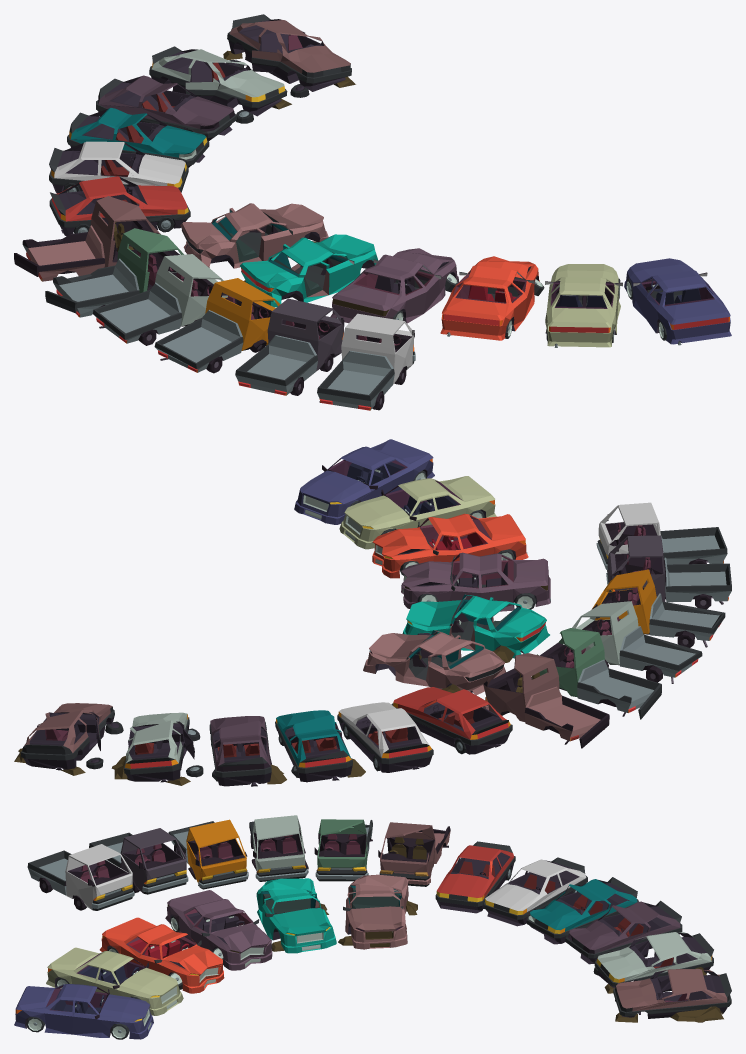
The model's file is abandoned.glb.
The picture shows the model from 3 angles, top to bottom: view 1: azimuth 30°, elevation 25°; view 2: azimuth 150°, elevation 25°; view 3: azimuth 270°, elevation 25°; orthographic projection. The views are drawn at different scales.
Parts seen in each view (by area): view 1: car 3.RC, car 3./, car 1, car 3, car 1,/2.RC, car 1,/2, car 3./.RC, car 1,/.RC, car 2./2.RC, car 1,/, car 1.RC, car 2./2 (+6 smaller); view 2: car 1,/2.RC, car 1, car 1,/2, car 1.RC, car 1,/.RC, car 3./2.RC, car 1,/, car 3./2, car 2, car 3.RC, car 2./2.RC, car 3./.RC (+6 smaller); view 3: car 1, car 2./2.RC, car 1,/2.RC, car 1,/2, car 1.RC, car 3, car 1,/, car 1,/.RC, car 2./2, car 2.RC, car 2./.RC, car 3./ (+6 smaller).
Part boxes in pixels (box(x1,y1,x2,y2)): car 3.RC: box(235, 298, 344, 395); car 3./: box(154, 278, 280, 373); car 1: box(624, 258, 731, 345); car 3: box(317, 313, 415, 410); car 1,/2.RC: box(330, 248, 458, 323); car 1,/2: box(440, 256, 544, 340); car 3./.RC: box(93, 254, 228, 345); car 1,/.RC: box(180, 203, 328, 268); car 2./2.RC: box(223, 14, 355, 97); car 1,/: box(240, 234, 378, 307); car 1.RC: box(545, 264, 622, 347); car 2./2: box(149, 46, 291, 123); car 1,/2.RC: box(401, 552, 550, 611); car 1: box(294, 439, 434, 524); car 1,/2: box(372, 513, 528, 578); car 1.RC: box(339, 476, 496, 549); car 1,/.RC: box(363, 630, 505, 695); car 3./2.RC: box(483, 653, 609, 748); car 1,/: box(402, 594, 549, 662); car 3./2: box(532, 628, 661, 719); car 2: box(391, 687, 512, 754); car 3.RC: box(606, 535, 731, 609); car 2./2.RC: box(14, 703, 123, 775); car 3./.RC: box(572, 601, 702, 683); car 1: box(14, 984, 153, 1039); car 2./2.RC: box(613, 968, 731, 1022); car 1,/2.RC: box(165, 890, 272, 970); car 1,/2: box(99, 917, 224, 993); car 1.RC: box(46, 947, 183, 1015); car 3: box(27, 844, 134, 910); car 1,/: box(256, 878, 336, 953); car 1,/.RC: box(338, 874, 417, 949); car 2./2: box(593, 932, 713, 993); car 2.RC: box(483, 857, 587, 926); car 2./.RC: box(565, 900, 682, 964); car 3./: box(168, 819, 248, 889).
Bounding box in the file's own units: 16.78 × 1.94 × 24.67.
Materials: 1 (1 with a texture image).
